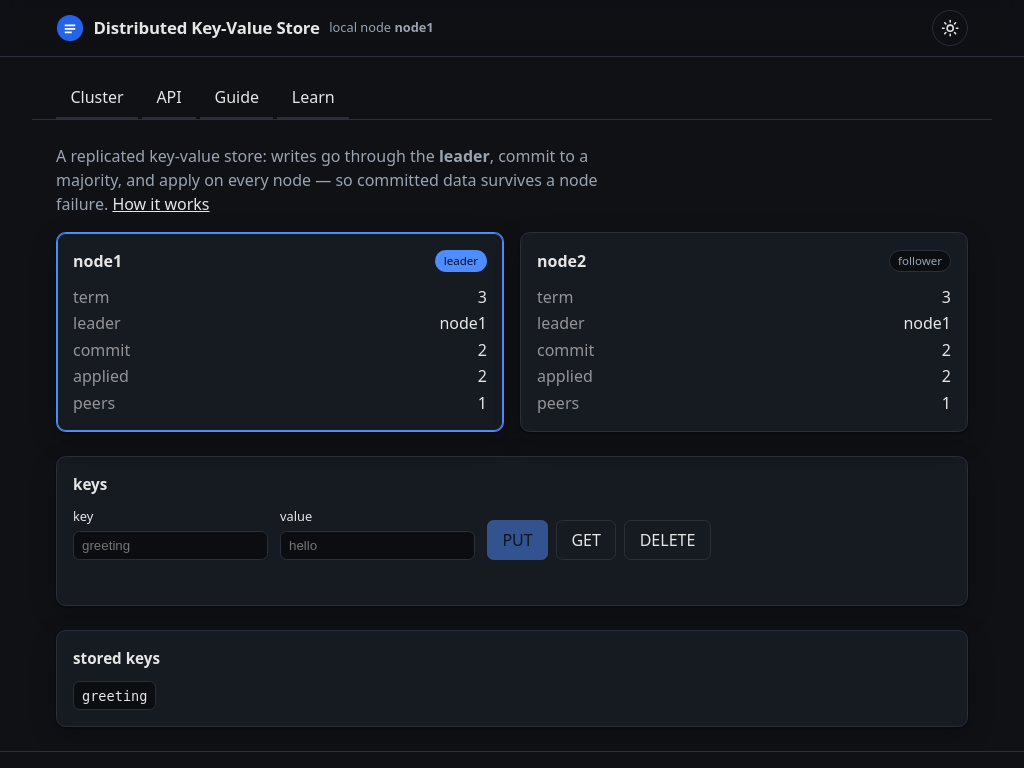
Test: App › toggles the theme and reflects it on the document
Click the button named "switch to light mode". click: [950, 28]
box: [932,10,968,46]
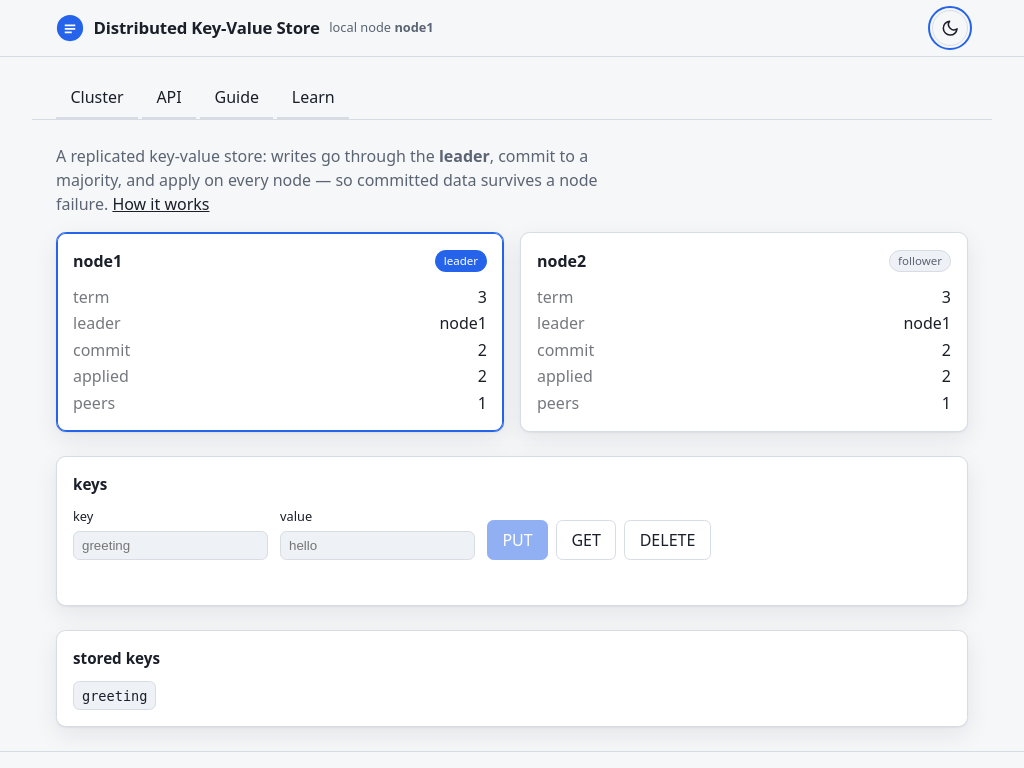
expect the button named "switch to dark mode" is shown: met, box [932,10,968,46]
